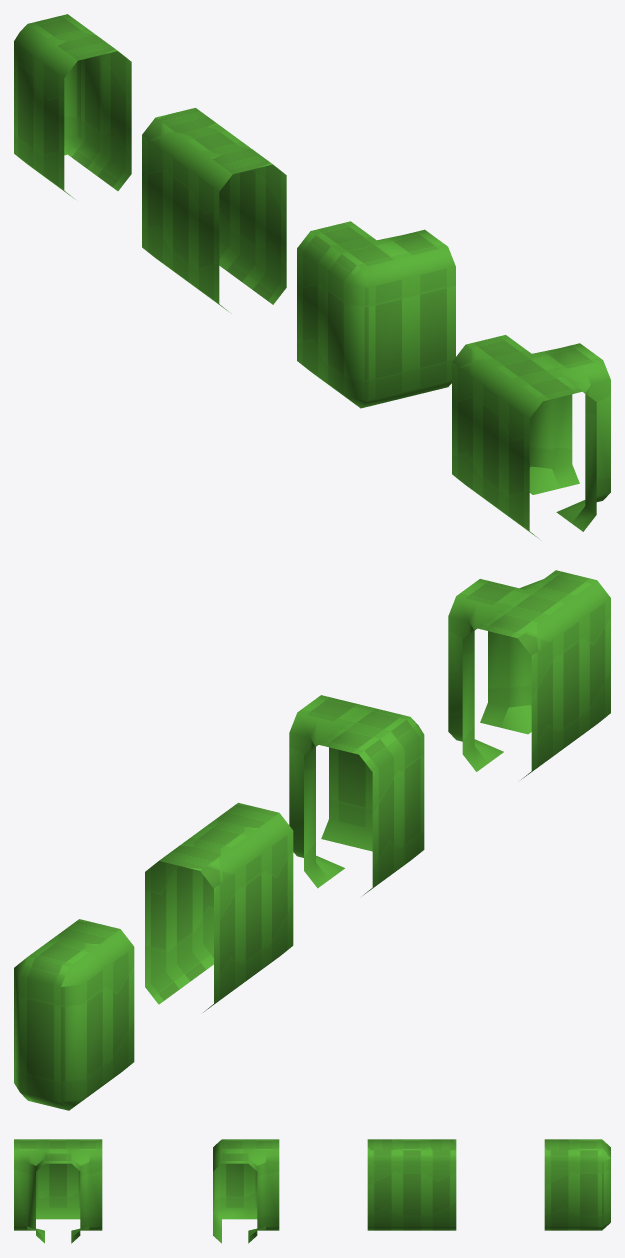
The model's file is Hedge.FBX.
3 views of the same model, one above another, from view 1: azimuth 30°, elevation 25°; view 2: azimuth 150°, elevation 25°; view 3: azimuth 270°, elevation 25° (orthographic). The views are drawn at different scales.
Visible parts, largest first — view 1: Hedge002, Hedge003, Hedge001, Hedge; view 2: Hedge003, Hedge001, Hedge002, Hedge; view 3: Hedge001, Hedge003, Hedge, Hedge002.
Part boxes in pixels (x1,y1,x2,y2): Hedge002: (297,221,455,408); Hedge003: (452,335,610,539); Hedge001: (142,108,286,313); Hedge: (14,14,131,199); Hedge003: (448,570,610,779); Hedge001: (145,802,293,1012); Hedge002: (289,695,424,895); Hedge: (14,919,134,1110); Hedge001: (367,1139,456,1230); Hedge003: (14,1139,102,1243); Hedge: (544,1139,610,1230); Hedge002: (213,1139,279,1243).
Bounding box in the file's own units: 0.75 × 1 × 6.75.
1 material, 1 textured.
